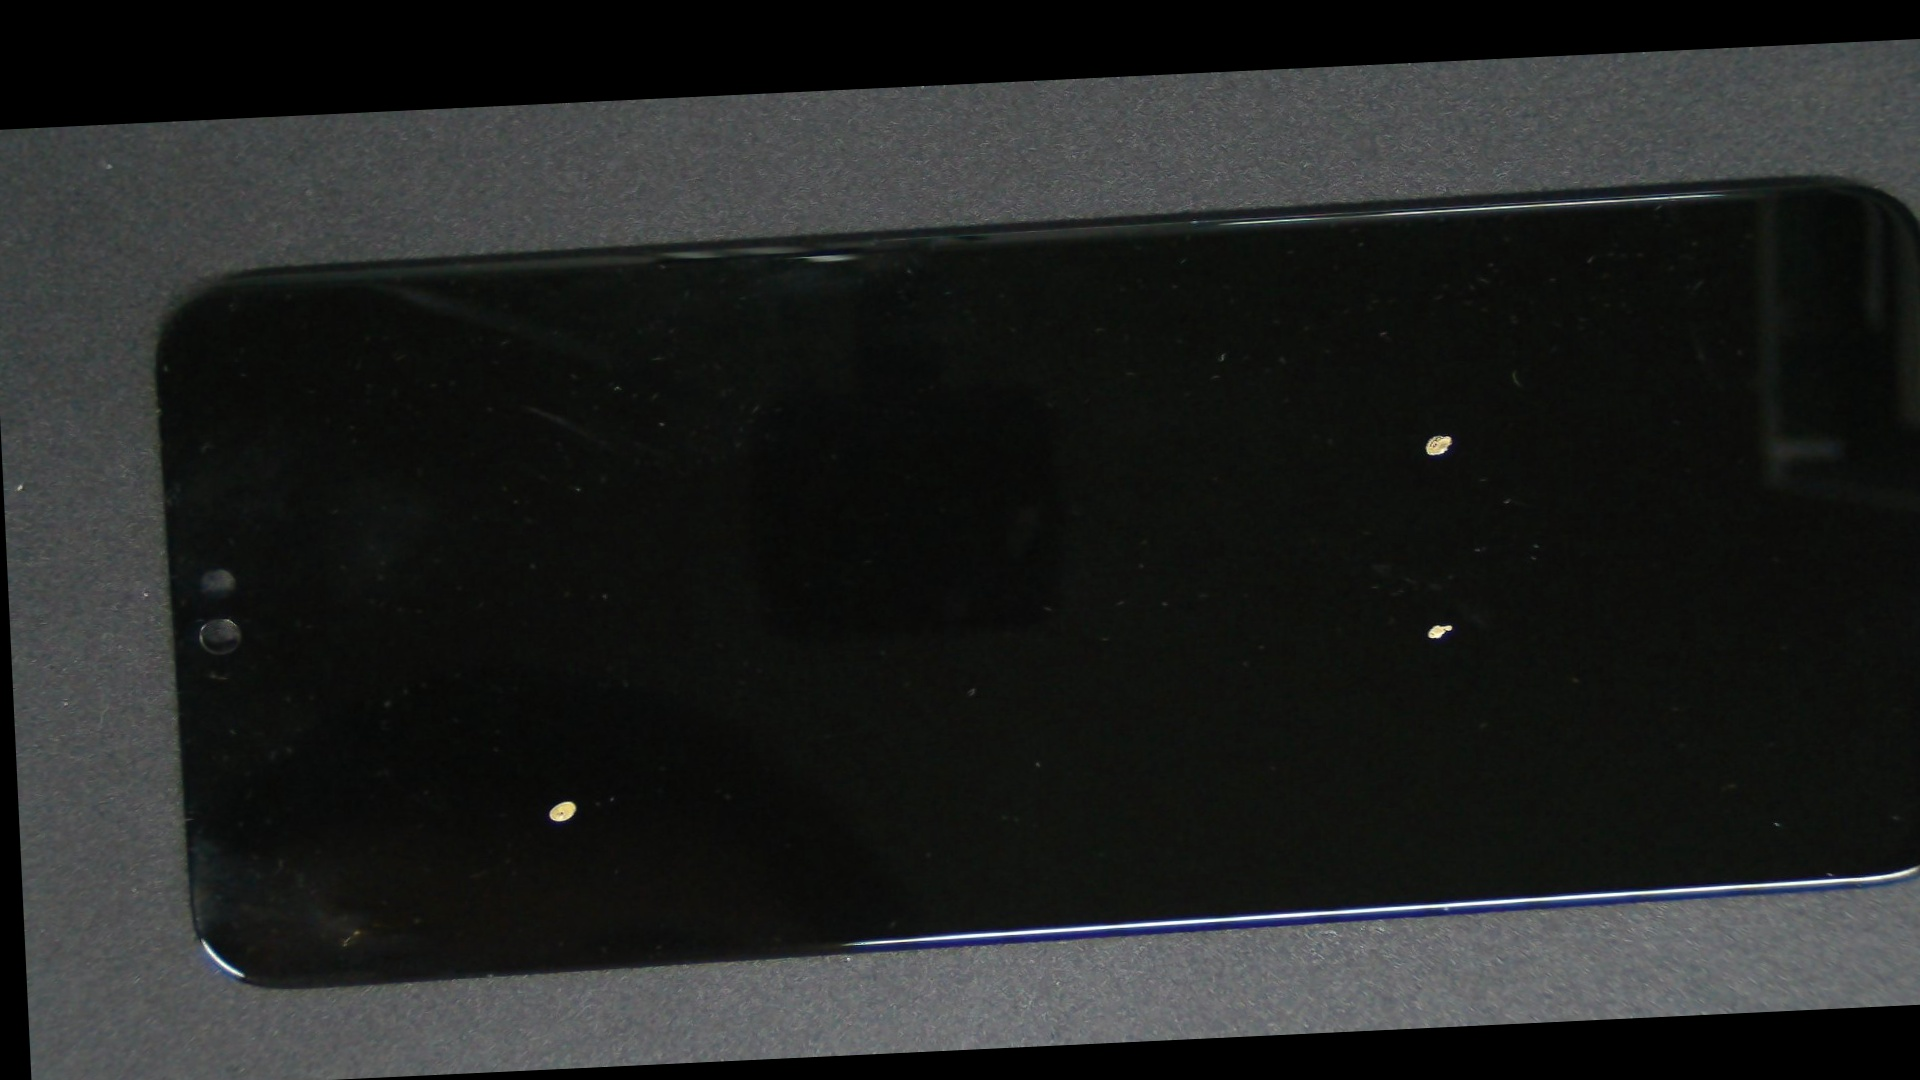oil: (711, 316, 1920, 939), (713, 222, 1920, 655), (274, 439, 844, 1080)
